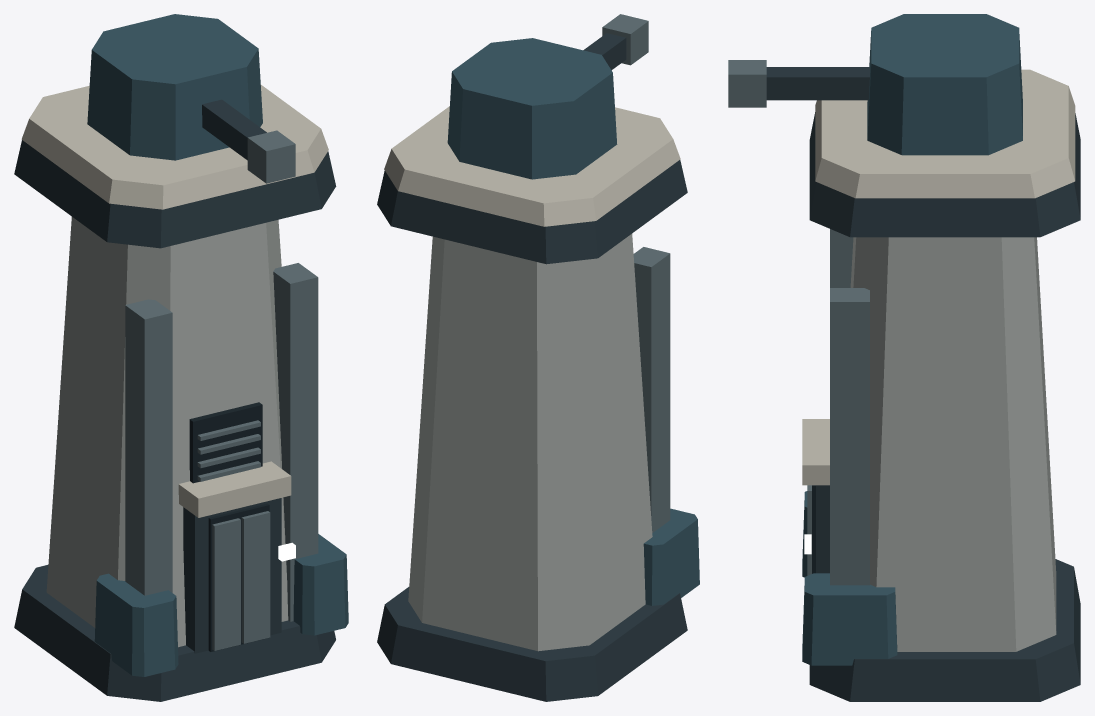
Rendered from outpost_t1.glb.
3 renders of one model, left to right at view 1: azimuth 30°, elevation 25°; view 2: azimuth 150°, elevation 25°; view 3: azimuth 270°, elevation 25°, orthographic. The views are drawn at different scales.
Visible parts, largest first — view 1: body, part_turret; view 2: body, part_turret; view 3: body, part_turret.
Boxes of the visible parts, x1=… form: body: x1=14, y1=84, x2=348, y2=701; part_turret: x1=87, y1=14, x2=295, y2=183; body: x1=377, y1=106, x2=699, y2=701; part_turret: x1=447, y1=14, x2=648, y2=179; body: x1=802, y1=69, x2=1080, y2=701; part_turret: x1=728, y1=14, x2=1022, y2=155.
Size of the model in its own units: 1.48 by 3.61 by 1.93.
